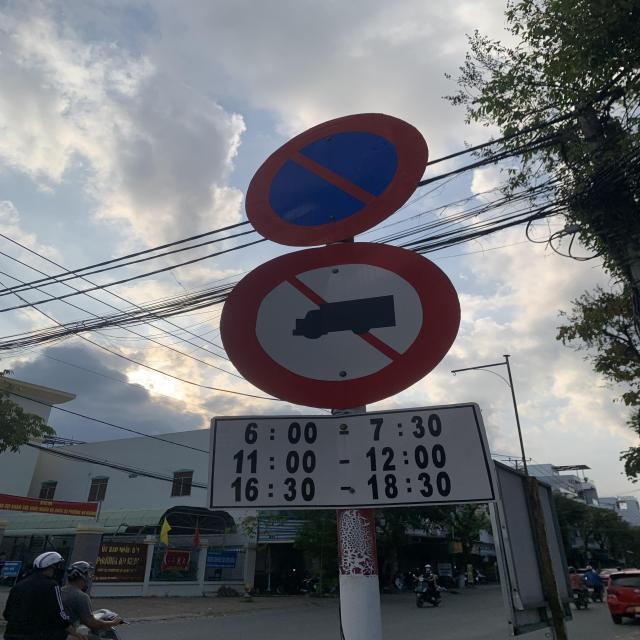Cam_Dau_Xe: (244, 111, 430, 246)
Cam_Xe_Tai: (221, 242, 460, 408)
